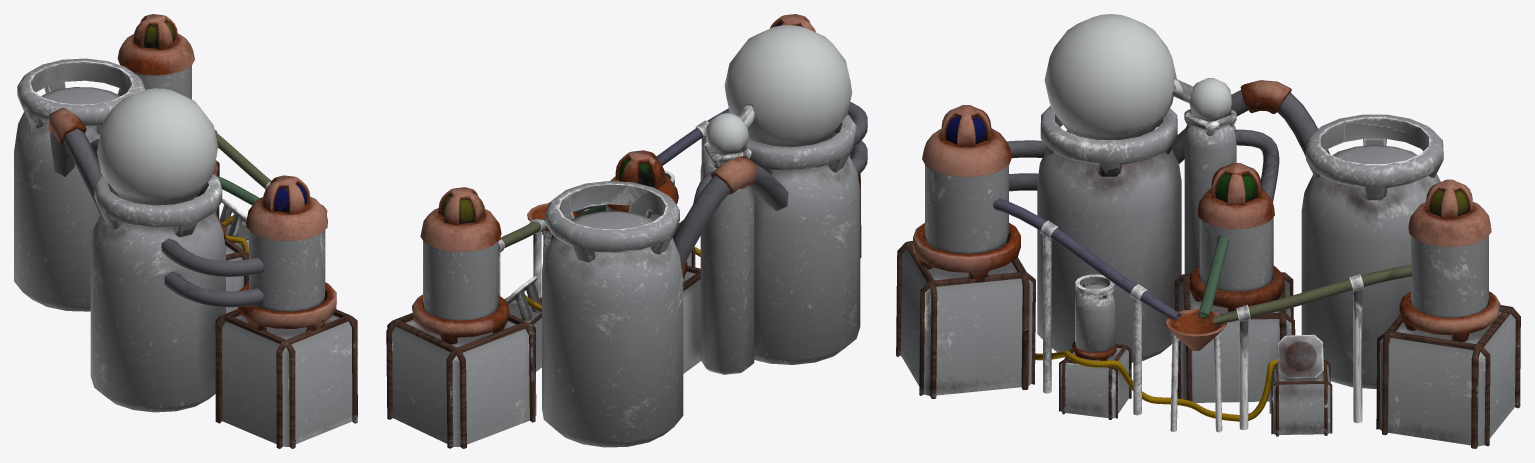
File: AntidoteMachine.fbx
3 views of the same model, side by side, from view 1: azimuth 30°, elevation 25°; view 2: azimuth 150°, elevation 25°; view 3: azimuth 270°, elevation 25° (orthographic). The views are drawn at different scales.
Parts seen in each view (by area): view 1: AntidoteMachine; view 2: AntidoteMachine; view 3: AntidoteMachine.
Boxes of the visible parts, <box> form: AntidoteMachine: <box>14,14,357,448</box>; AntidoteMachine: <box>386,14,867,448</box>; AntidoteMachine: <box>896,14,1520,448</box>.
Size of the model in its own units: 64.01 by 66.58 by 118.
